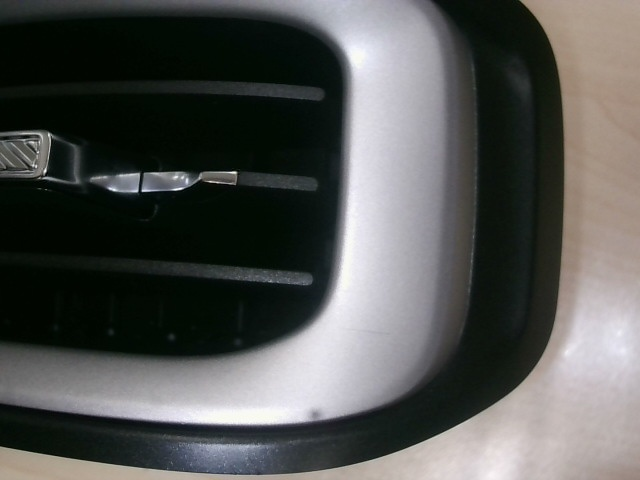NG: (221, 444, 285, 480), (338, 316, 398, 346)
